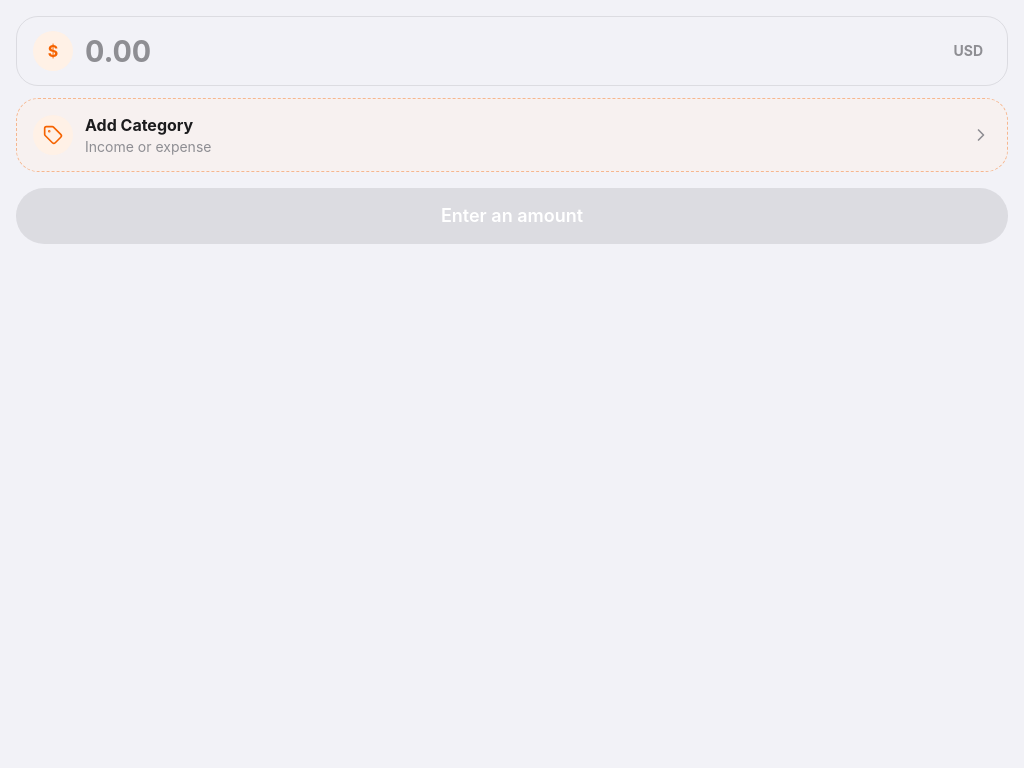
Scenario: AddComposer (add mode) › groups large LBP amounts with decimals in the CTA
Click the button with aria-label "Switch currency": (968, 51) [946,37,991,65]
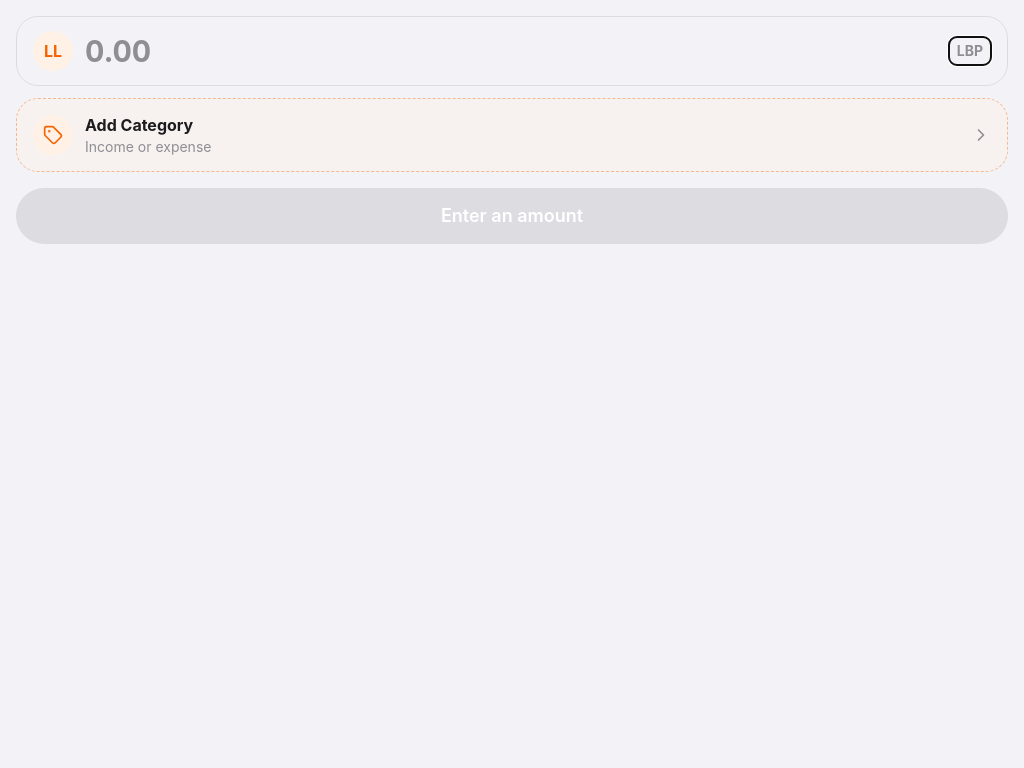
In the field named "Amount": (511, 51) [85,33,937,69], type "1234567.5"
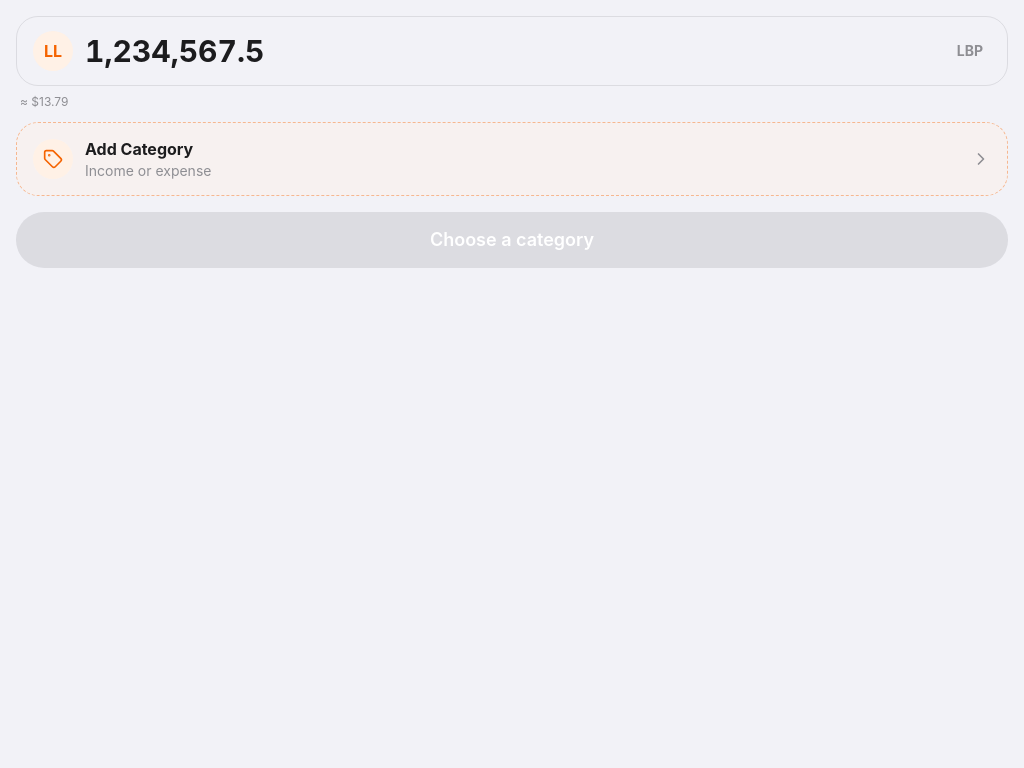
Click the button "Add Category Income or expense": (53, 159) [16,122,1008,196]
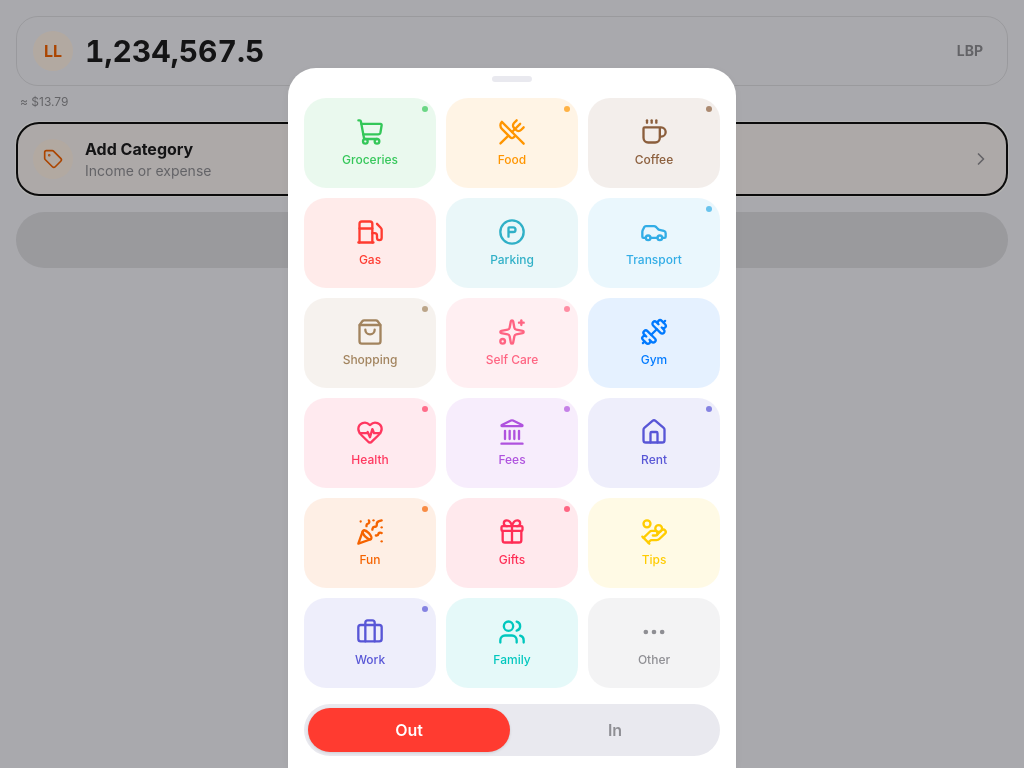
Click the button "Gas": (370, 243) [304,198,436,288]
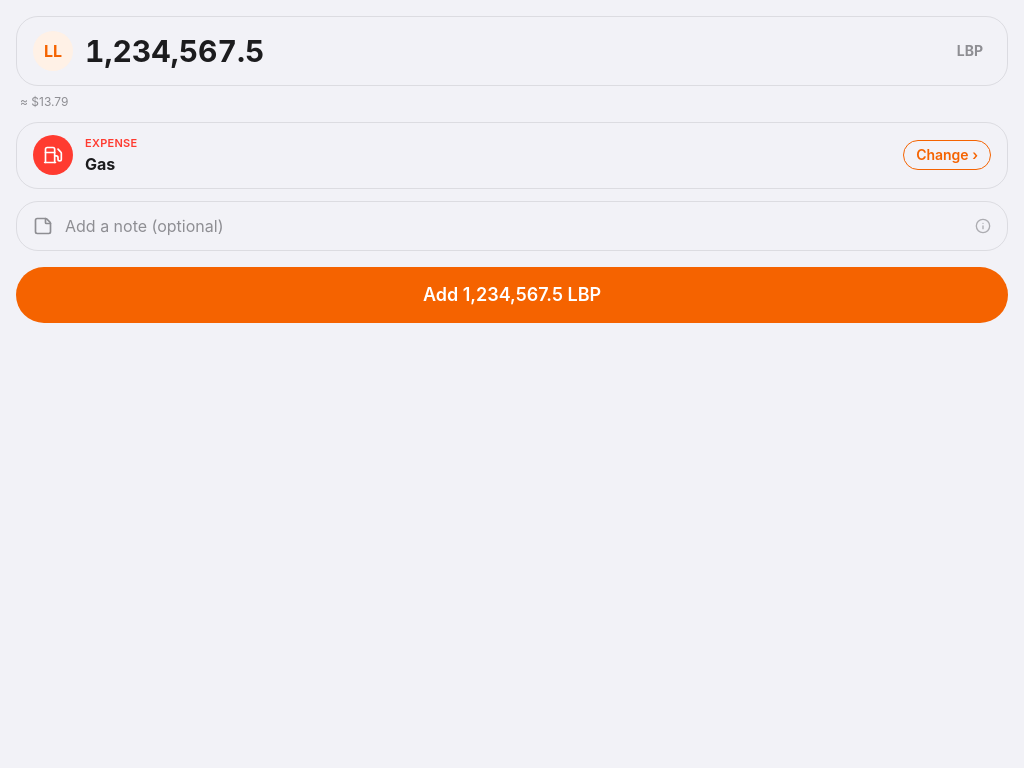
Now the button "Add 1,234,567.5 LBP" is shown, box [16,266,1008,322]
